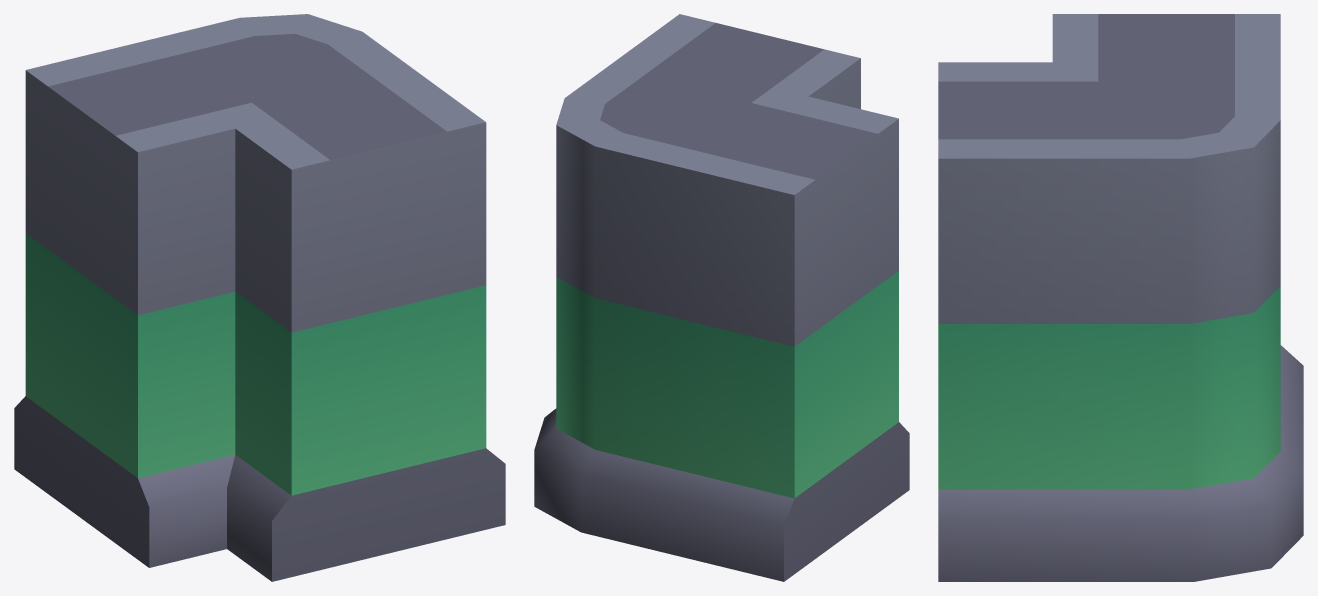
Rendered from wall-corner.obj.
3 renders of one model, left to right at view 1: azimuth 30°, elevation 25°; view 2: azimuth 150°, elevation 25°; view 3: azimuth 270°, elevation 25°, orthographic. The views are drawn at different scales.
Visible parts, largest first — view 1: wall-corner; view 2: wall-corner; view 3: wall-corner.
Boxes of the visible parts, x1,y1,x2,y2 form: wall-corner: (14, 14, 505, 581); wall-corner: (534, 14, 909, 581); wall-corner: (938, 14, 1303, 581).
Bounding box in the file's own units: 0.8 × 1 × 0.8.
Materials: 1 (1 with a texture image).
